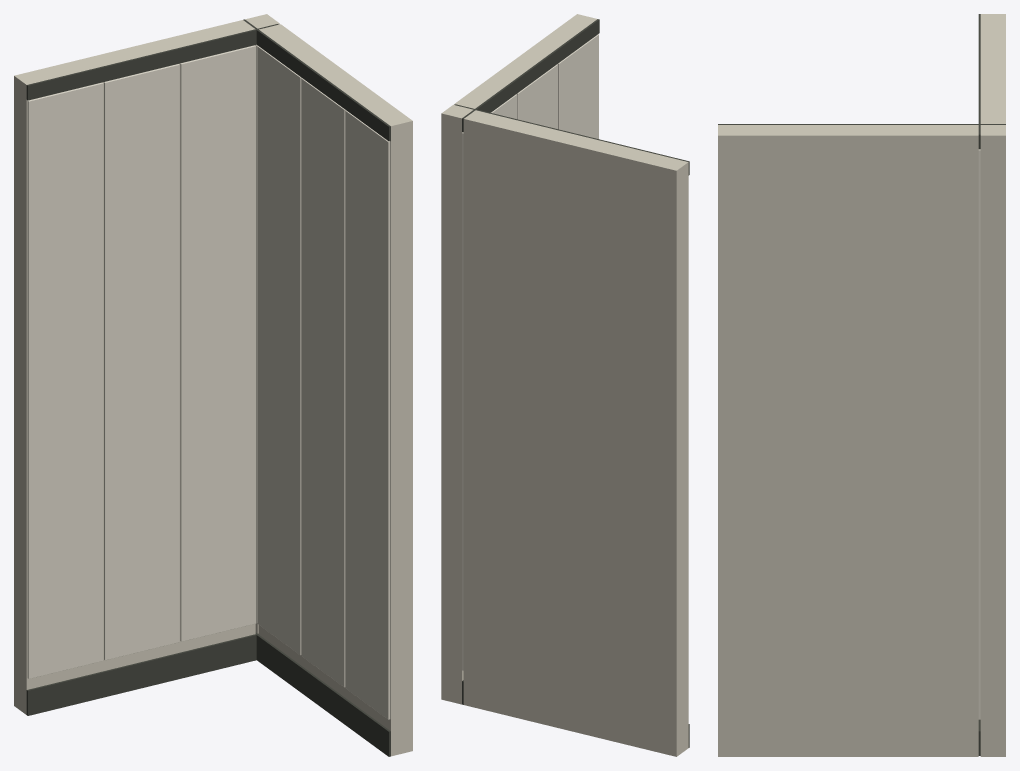
File: mall-wall-corner.glb
The picture shows the model from 3 angles, left to right: view 1: azimuth 30°, elevation 25°; view 2: azimuth 150°, elevation 25°; view 3: azimuth 270°, elevation 25°; orthographic projection. The views are drawn at different scales.
Visible parts, largest first — view 1: ARM_X_Panel_3, ARM_X_Panel_1, ARM_X_Panel_2, ARM_Y_Panel_3, ARM_Y_Panel_1, ARM_Y_Panel_2, ARM_Y_Core, ARM_X_Core, ARM_X_Base, ARM_X_Top, ARM_Y_Base, ARM_Y_Top (+1 smaller); view 2: ARM_X_Core, CORNER_Core, ARM_Y_Panel_3, ARM_Y_Core, ARM_Y_Panel_2, ARM_Y_Top, CORNER_Panel_X; view 3: ARM_Y_Core, CORNER_Core, ARM_X_Core, CORNER_Panel_Y.
Part boxes in pixels (x1=…): ARM_X_Panel_3: x1=27, y1=82, x2=103, y2=678; ARM_X_Panel_1: x1=180, y1=45, x2=255, y2=641; ARM_X_Panel_2: x1=104, y1=64, x2=179, y2=660; ARM_Y_Panel_3: x1=345, y1=110, x2=390, y2=719; ARM_Y_Panel_1: x1=257, y1=46, x2=301, y2=655; ARM_Y_Panel_2: x1=301, y1=78, x2=345, y2=687; ARM_Y_Core: x1=258, y1=24, x2=412, y2=756; ARM_X_Core: x1=14, y1=20, x2=255, y2=714; ARM_X_Base: x1=26, y1=634, x2=256, y2=715; ARM_X_Top: x1=26, y1=29, x2=256, y2=100; ARM_Y_Base: x1=256, y1=634, x2=390, y2=756; ARM_Y_Top: x1=256, y1=29, x2=390, y2=141; ARM_X_Core: x1=463, y1=110, x2=688, y2=756; CORNER_Core: x1=441, y1=104, x2=473, y2=704; ARM_Y_Panel_3: x1=557, y1=34, x2=598, y2=138; ARM_Y_Core: x1=454, y1=14, x2=597, y2=108; ARM_Y_Panel_2: x1=516, y1=64, x2=557, y2=128; ARM_Y_Top: x1=475, y1=19, x2=599, y2=112; CORNER_Panel_X: x1=462, y1=132, x2=463, y2=670; ARM_Y_Core: x1=718, y1=125, x2=978, y2=756; CORNER_Core: x1=980, y1=125, x2=1005, y2=756; ARM_X_Core: x1=980, y1=14, x2=1005, y2=123; CORNER_Panel_Y: x1=978, y1=149, x2=980, y2=719.
Bounding box in the file's own units: 1.26 × 3 × 1.26.
